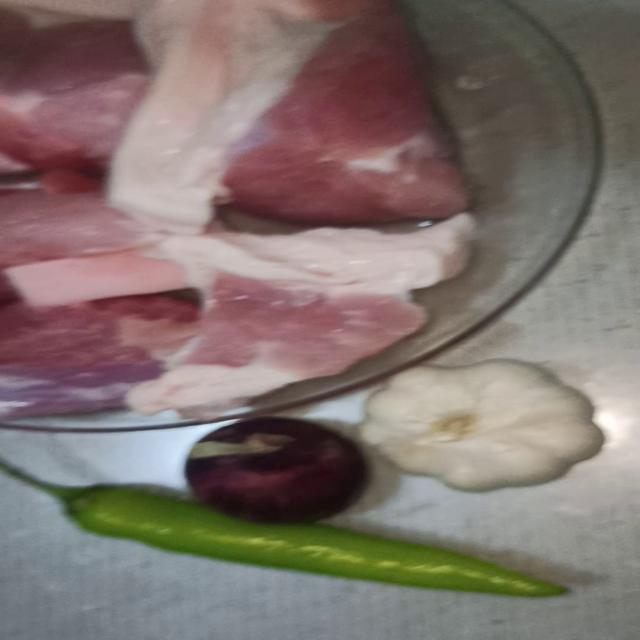chili_pepper: (0, 455, 581, 622)
garlic: (299, 359, 625, 494)
onion: (178, 422, 367, 527)
pork: (136, 0, 485, 218), (142, 217, 442, 413), (3, 218, 178, 427), (0, 13, 151, 190)
